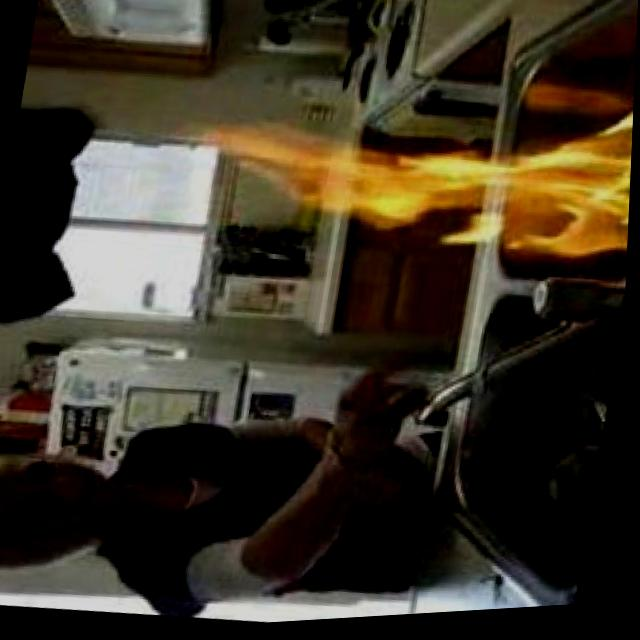Fire: (184, 87, 636, 287)
